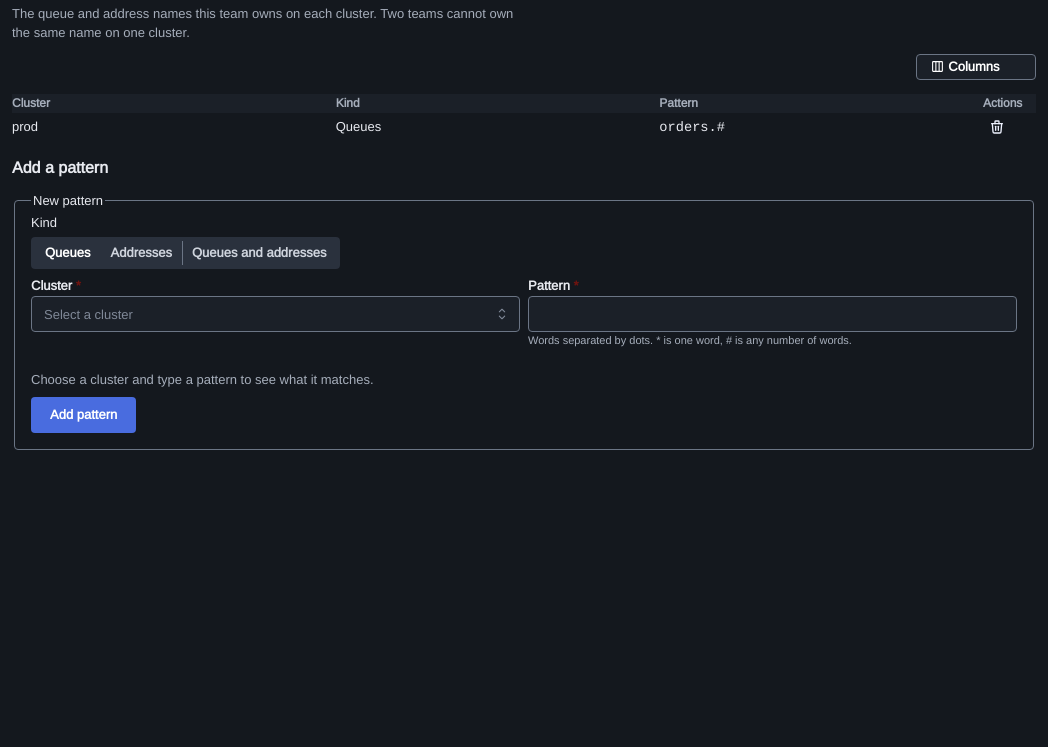
Scenario: TeamPatterns preview › shows why a preview is unavailable instead of a blank
Click the dropdown labelled "Cluster *" at point(276, 314), box top-left (31, 296), bottom-right (520, 332)
(page scrolled)
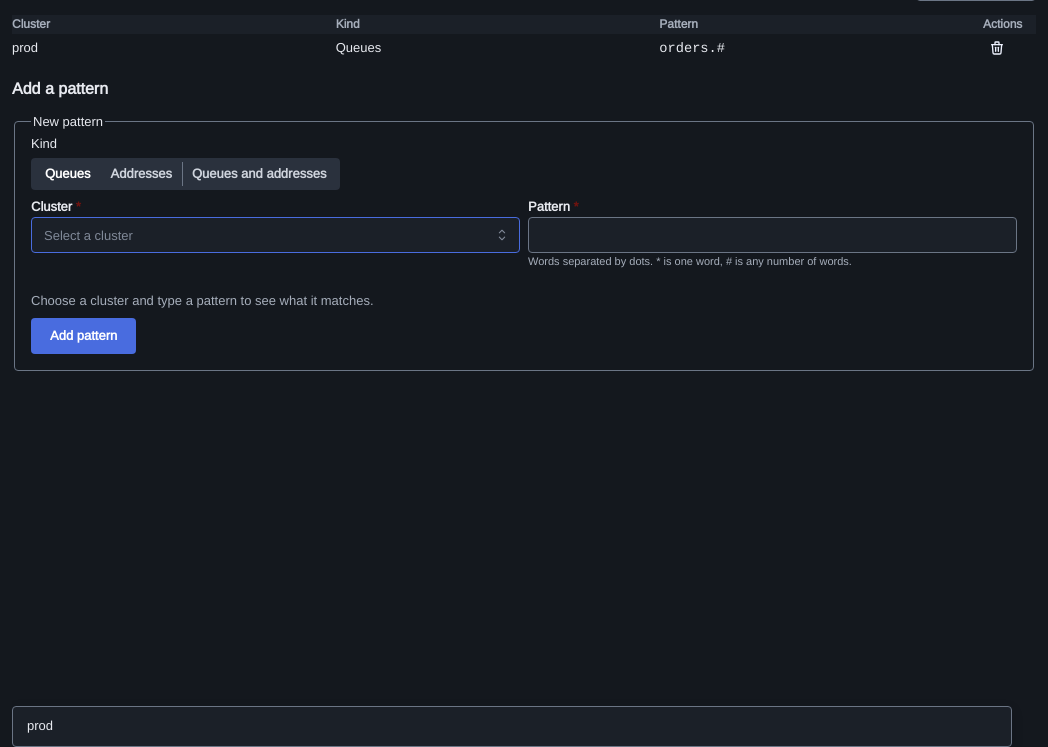
Click the option "prod" at point(40, 726), box top-left (27, 717), bottom-right (53, 734)
(page scrolled)
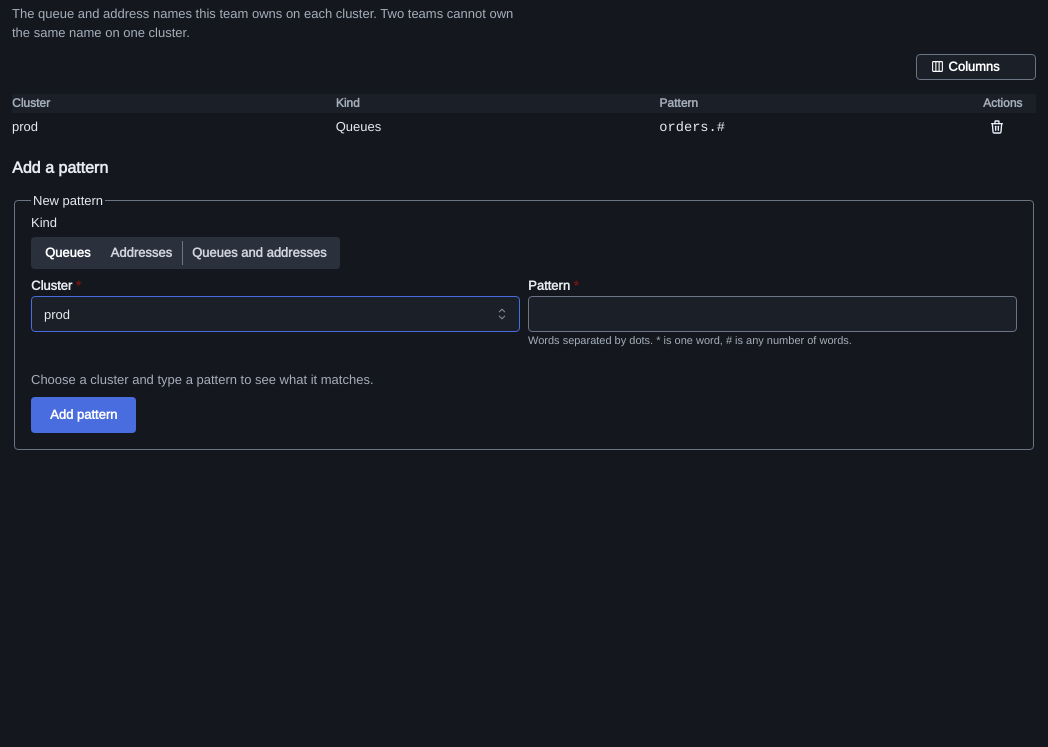
Type "orders.#" into the field labelled "Pattern *" at point(772, 314), box top-left (528, 296), bottom-right (1017, 332)
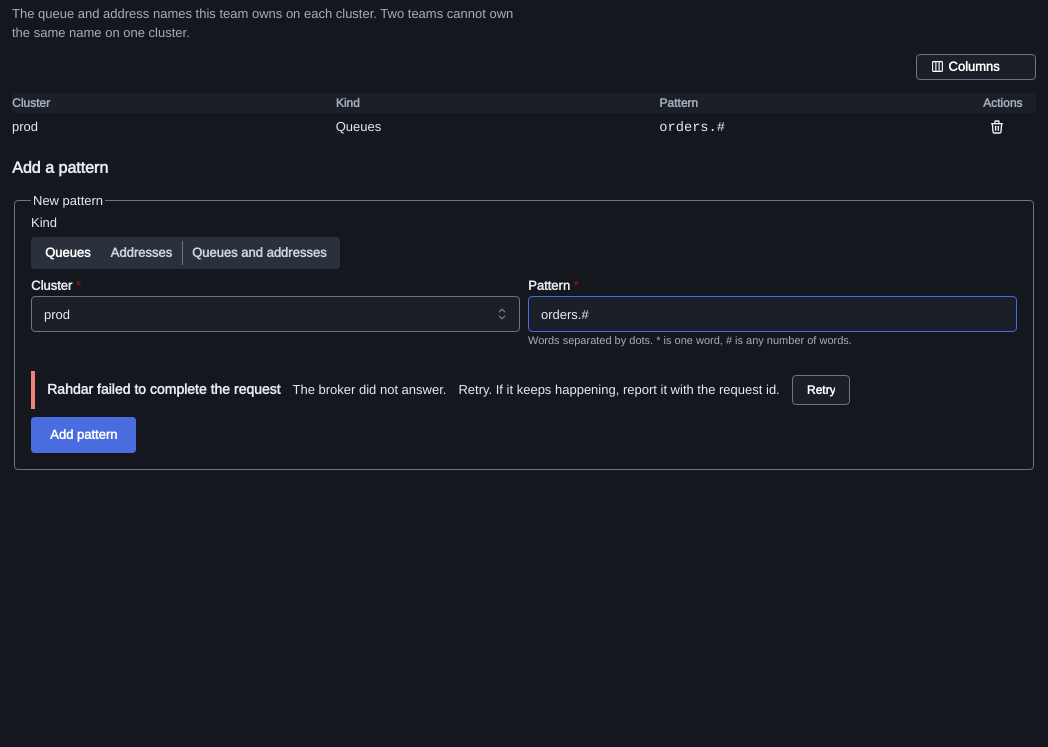
Expected: the text "The broker did not answer." is shown, top-left (292, 381), bottom-right (446, 399)
